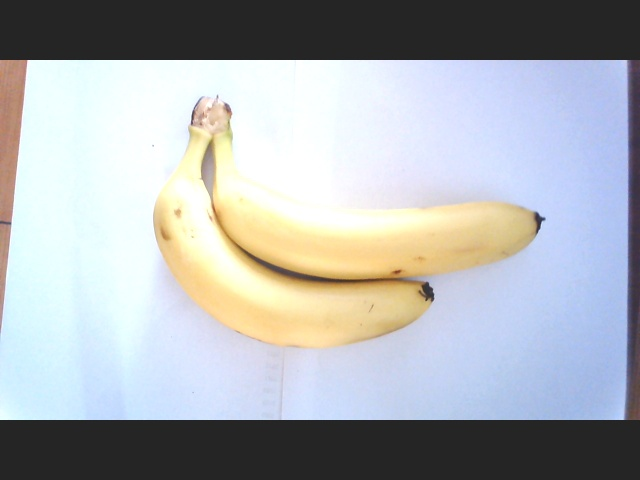banana: (148, 128, 541, 355)
